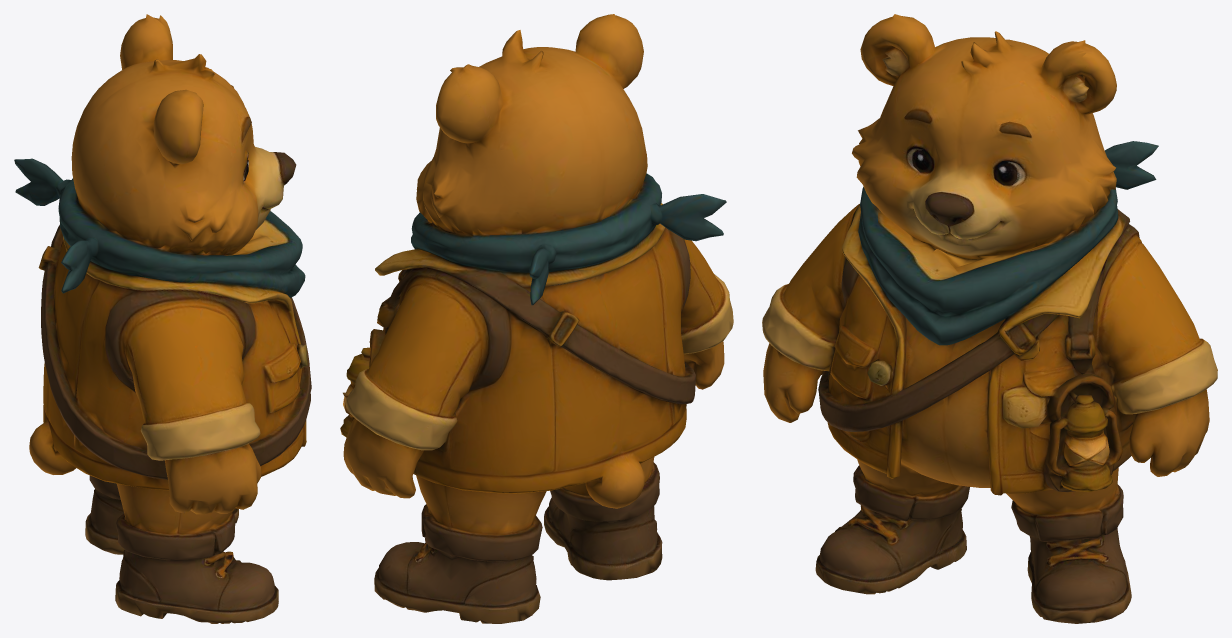
Rendered from supporter-030.glb.
The picture shows the model from 3 angles, left to right: view 1: azimuth 30°, elevation 25°; view 2: azimuth 150°, elevation 25°; view 3: azimuth 270°, elevation 25°; orthographic projection. The views are drawn at different scales.
Visible parts, largest first — view 1: tripo_node_493fe10a-a087-447c-9a77-18b980298164; view 2: tripo_node_493fe10a-a087-447c-9a77-18b980298164; view 3: tripo_node_493fe10a-a087-447c-9a77-18b980298164.
Part boxes in pixels (bbox=[...]): tripo_node_493fe10a-a087-447c-9a77-18b980298164: bbox=[14, 14, 311, 623]; tripo_node_493fe10a-a087-447c-9a77-18b980298164: bbox=[340, 14, 733, 623]; tripo_node_493fe10a-a087-447c-9a77-18b980298164: bbox=[762, 14, 1217, 623].
Size of the model in its own units: 0.288 by 0.5 by 0.3782.
1 material, 1 textured.
